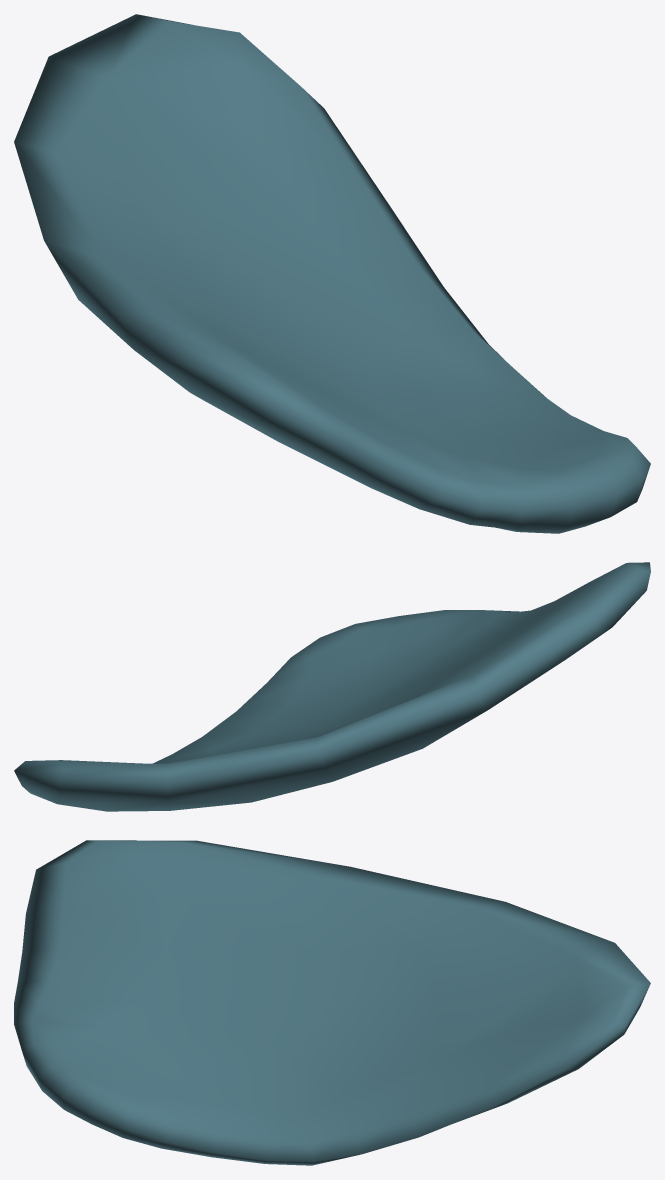
The model's file is Flexor_hallucis_brevis_proximal_phalanx_1st_right.glb.
3 views of the same model, one above another, from view 1: azimuth 30°, elevation 25°; view 2: azimuth 150°, elevation 25°; view 3: azimuth 270°, elevation 25° (orthographic). The views are drawn at different scales.
Parts seen in each view (by area): view 1: Lateral_head_of_flexor_hallucis_brevis_on_prox._phal._of_1st; view 2: Lateral_head_of_flexor_hallucis_brevis_on_prox._phal._of_1st; view 3: Lateral_head_of_flexor_hallucis_brevis_on_prox._phal._of_1st.
Part boxes in pixels (box(x1,y1,x2,y2)): Lateral_head_of_flexor_hallucis_brevis_on_prox._phal._of_1st: box(14, 14, 650, 533); Lateral_head_of_flexor_hallucis_brevis_on_prox._phal._of_1st: box(14, 562, 650, 811); Lateral_head_of_flexor_hallucis_brevis_on_prox._phal._of_1st: box(14, 840, 650, 1165).
Size of the model in its own units: 0.00419 by 0.00228 by 0.00718.
